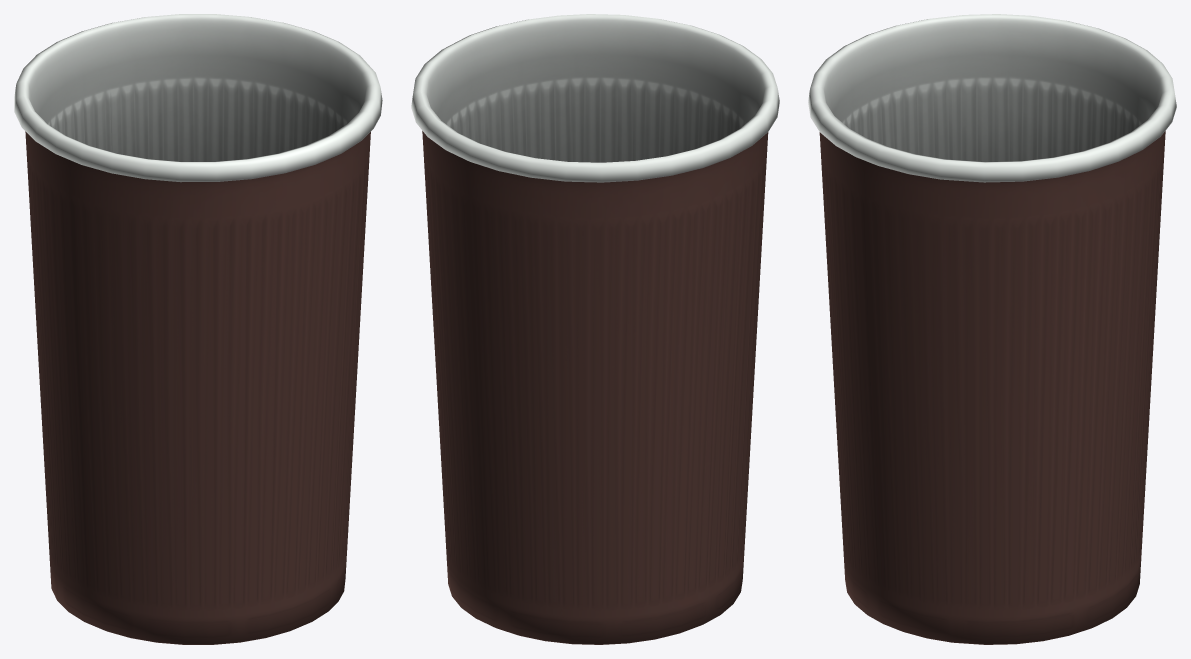
The model's file is cup_3.dae.
3 renders of one model, left to right at view 1: azimuth 30°, elevation 25°; view 2: azimuth 150°, elevation 25°; view 3: azimuth 270°, elevation 25°, orthographic.
Parts seen in each view (by area): view 1: Plastic_Cup; view 2: Plastic_Cup; view 3: Plastic_Cup.
Boxes of the visible parts, x1,y1,x2,y2 form: Plastic_Cup: (14,14,382,644); Plastic_Cup: (411,14,779,644); Plastic_Cup: (808,14,1176,644).
Size of the model in its own units: 1.54 by 1.54 by 2.29.
1 material, 1 textured.
